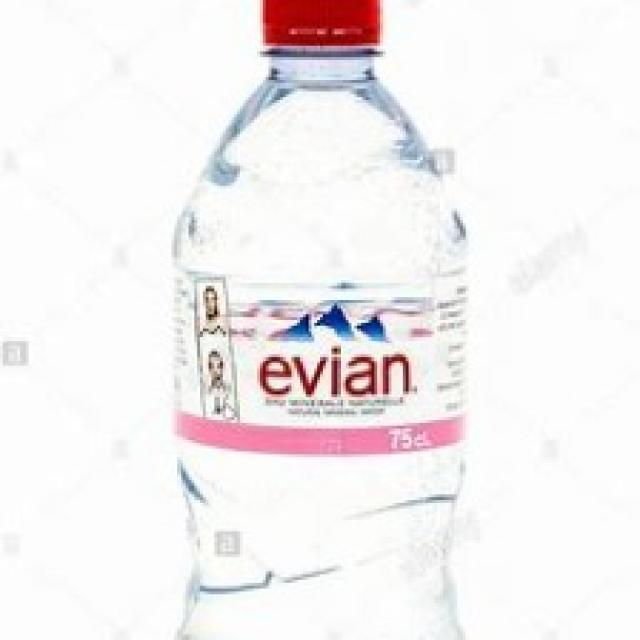plastic_bottle: (171, 13, 470, 640)
